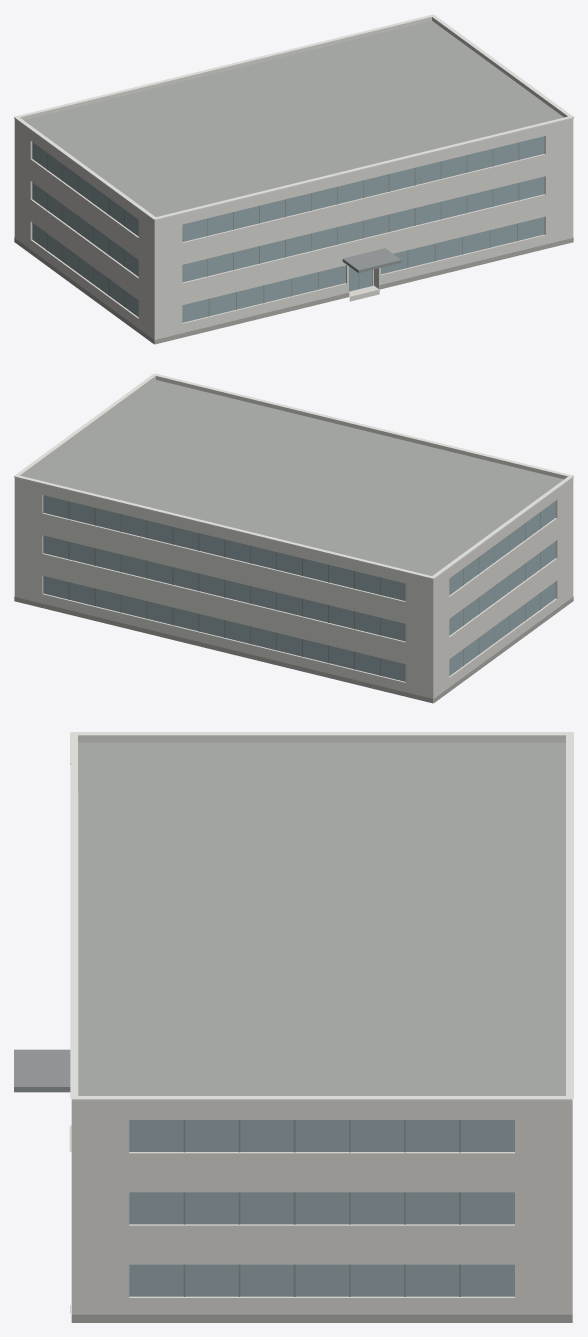
The picture shows the model from 3 angles, top to bottom: view 1: azimuth 30°, elevation 25°; view 2: azimuth 150°, elevation 25°; view 3: azimuth 270°, elevation 25°; orthographic projection. The views are drawn at different scales.
Visible parts, largest first — view 1: b1557353117__roof, b1557353117__wall, b1557353117__glass, b1557353117__trim, b1557353117__parapet, b1557353117__base, b1557353117__frame, b1557353117__canopy; view 2: b1557353117__roof, b1557353117__wall, b1557353117__glass, b1557353117__trim, b1557353117__parapet, b1557353117__base, b1557353117__frame; view 3: b1557353117__roof, b1557353117__wall, b1557353117__glass, b1557353117__trim, b1557353117__parapet, b1557353117__base, b1557353117__canopy, b1557353117__frame.
Boxes of the visible parts, x1=… form: b1557353117__roof: x1=24, y1=21, x2=563, y2=216; b1557353117__wall: x1=14, y1=121, x2=573, y2=343; b1557353117__glass: x1=32, y1=136, x2=544, y2=322; b1557353117__trim: x1=14, y1=14, x2=573, y2=220; b1557353117__parapet: x1=14, y1=17, x2=573, y2=223; b1557353117__base: x1=14, y1=237, x2=573, y2=344; b1557353117__frame: x1=47, y1=142, x2=519, y2=316; b1557353117__canopy: x1=342, y1=248, x2=401, y2=273; b1557353117__roof: x1=24, y1=380, x2=563, y2=575; b1557353117__wall: x1=14, y1=480, x2=573, y2=702; b1557353117__glass: x1=43, y1=495, x2=555, y2=681; b1557353117__trim: x1=14, y1=373, x2=573, y2=579; b1557353117__parapet: x1=14, y1=376, x2=573, y2=582; b1557353117__base: x1=14, y1=596, x2=573, y2=703; b1557353117__frame: x1=68, y1=501, x2=540, y2=675; b1557353117__roof: x1=78, y1=742, x2=565, y2=1095; b1557353117__wall: x1=71, y1=1105, x2=572, y2=1314; b1557353117__glass: x1=129, y1=1120, x2=514, y2=1296; b1557353117__trim: x1=70, y1=732, x2=573, y2=1101; b1557353117__parapet: x1=71, y1=735, x2=572, y2=1105; b1557353117__base: x1=70, y1=1305, x2=572, y2=1322; b1557353117__canopy: x1=14, y1=1049, x2=70, y2=1092; b1557353117__frame: x1=183, y1=1120, x2=460, y2=1296.
Bounding box in the file's own units: 39.22 × 11.55 × 25.29.
